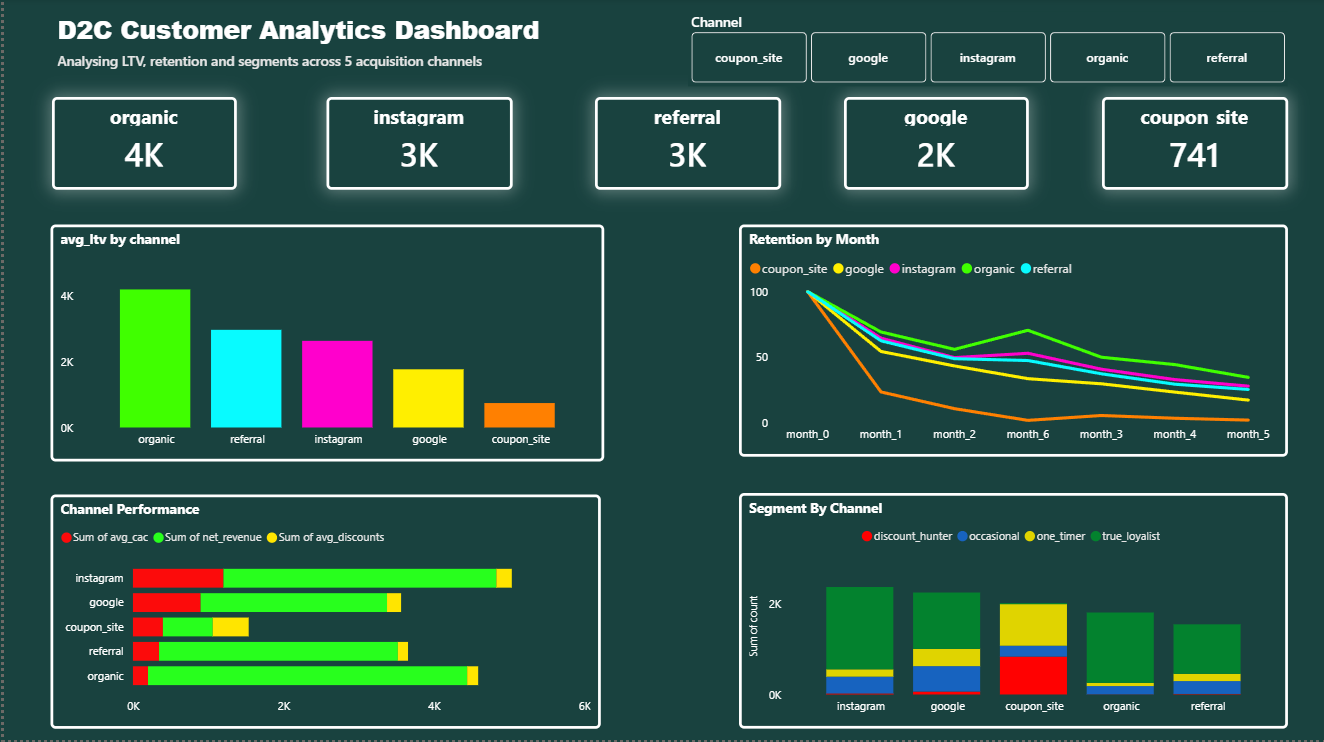

What the dashboard file says about the page in this screenshot:
{"tool":"powerbi","page":{"name":"Overview","canvas":[1280,720],"ordinal":0},"visuals":[{"type":"clusteredColumnChart","title":"avg_ltv by channel","fields":{"Category":["Channel_ltv.channel"],"Y":["Sum(Channel_ltv.avg_ltv)"]},"box":[45.1,219.8,537.1,230],"z":0},{"type":"textbox","title":"D2C Customer Analytics Dashboard","box":[46.9,13.6,639,83.3],"z":1000},{"type":"cardVisual","fields":{"Data":["Sum(Channel_ltv.avg_ltv)"],"Rows":["Channel_ltv.channel"]},"box":[1065.5,96.1,180.5,90.2],"z":2000},{"type":"cardVisual","fields":{"Data":["Sum(Channel_ltv.avg_ltv)"],"Rows":["Channel_ltv.channel"]},"box":[815.1,96.1,179,90.2],"z":3000},{"type":"cardVisual","fields":{"Data":["Sum(Channel_ltv.avg_ltv)"],"Rows":["Channel_ltv.channel"]},"box":[312.9,96.1,180.5,90.2],"z":4000},{"type":"cardVisual","fields":{"Data":["Sum(Channel_ltv.avg_ltv)"],"Rows":["Channel_ltv.channel"]},"box":[46.6,96.1,179,90.2],"z":5000},{"type":"cardVisual","fields":{"Data":["Sum(Channel_ltv.avg_ltv)"],"Rows":["Channel_ltv.channel"]},"box":[573.5,96.1,180.5,90.2],"z":6000},{"type":"lineChart","title":"Retention by Month","fields":{"Series":["cohort_retention.channel"],"Category":["cohort_retention.Attribute"],"Y":["Sum(cohort_retention.Value)"]},"box":[713.2,219.8,532.7,225.6],"z":7000},{"type":"barChart","title":"Channel Performance ","fields":{"Category":["Channel_ltv.channel"],"Y":["Sum(Channel_ltv.avg_cac)","Sum(Channel_ltv.net_revenue)","Sum(Channel_ltv.avg_discounts)"]},"box":[45.1,481.8,534.2,227.1],"z":8000},{"type":"columnChart","title":"Segment By Channel","fields":{"Series":["segment_by_channel.segment"],"Y":["Sum(segment_by_channel.count)"],"Category":["segment_by_channel.channel"]},"box":[713.2,480.3,532.7,228.5],"z":9000},{"type":"advancedSlicerVisual","title":"Channel","fields":{"Values":["Channel_ltv.channel"]},"box":[663.7,13.1,582.2,72.8],"z":10000}]}

Visuals, with their boxes in screenshot pixels (x1, y1, x2, y2), scaled from the page's 1280x720 canvas onto the 1324x742 screenshot:
"avg_ltv by channel" clusteredColumnChart: <region>47, 227, 602, 464</region>
"D2C Customer Analytics Dashboard" textbox: <region>49, 14, 709, 100</region>
cardVisual - Sum(Channel_ltv.avg_ltv) x Channel_ltv.channel: <region>1102, 99, 1289, 192</region>
cardVisual - Sum(Channel_ltv.avg_ltv) x Channel_ltv.channel: <region>843, 99, 1028, 192</region>
cardVisual - Sum(Channel_ltv.avg_ltv) x Channel_ltv.channel: <region>324, 99, 510, 192</region>
cardVisual - Sum(Channel_ltv.avg_ltv) x Channel_ltv.channel: <region>48, 99, 233, 192</region>
cardVisual - Sum(Channel_ltv.avg_ltv) x Channel_ltv.channel: <region>593, 99, 780, 192</region>
"Retention by Month" lineChart: <region>738, 227, 1289, 459</region>
"Channel Performance " barChart: <region>47, 497, 599, 731</region>
"Segment By Channel" columnChart: <region>738, 495, 1289, 730</region>
"Channel" advancedSlicerVisual: <region>687, 14, 1289, 89</region>
